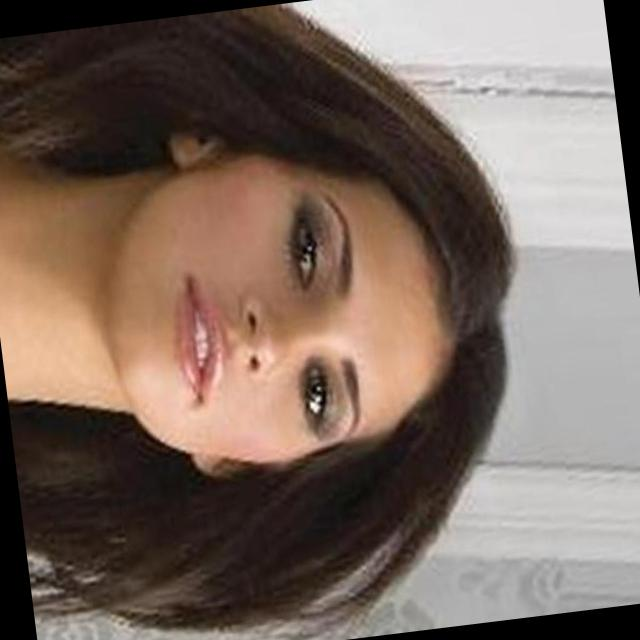bareface: (93, 0, 540, 596)
